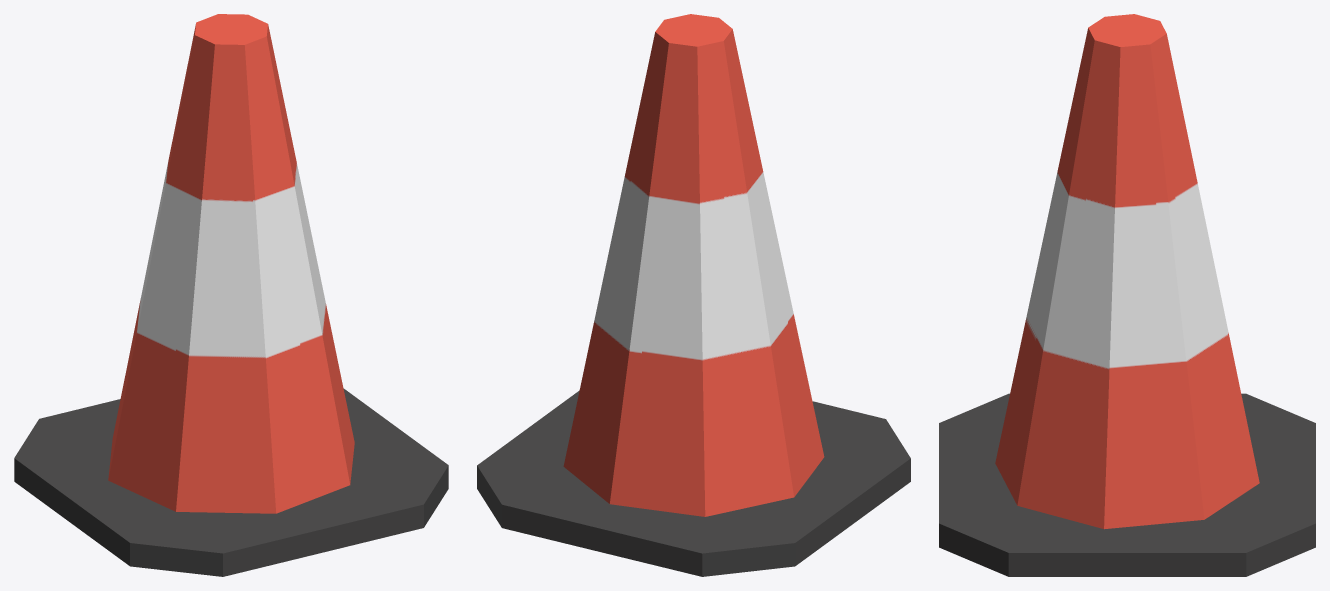
The model's file is TrafficCone.fbx.
3 renders of one model, left to right at view 1: azimuth 30°, elevation 25°; view 2: azimuth 150°, elevation 25°; view 3: azimuth 270°, elevation 25°, orthographic. The views are drawn at different scales.
Parts seen in each view (by area): view 1: Plane; view 2: Plane; view 3: Plane.
Part boxes in pixels (left/top/right/bottom): Plane: left=14, top=14, right=448, bottom=576; Plane: left=477, top=14, right=910, bottom=576; Plane: left=939, top=14, right=1315, bottom=576.
Bounding box in the file's own units: 200 × 273 × 200.
Materials: 1 (1 with a texture image).
